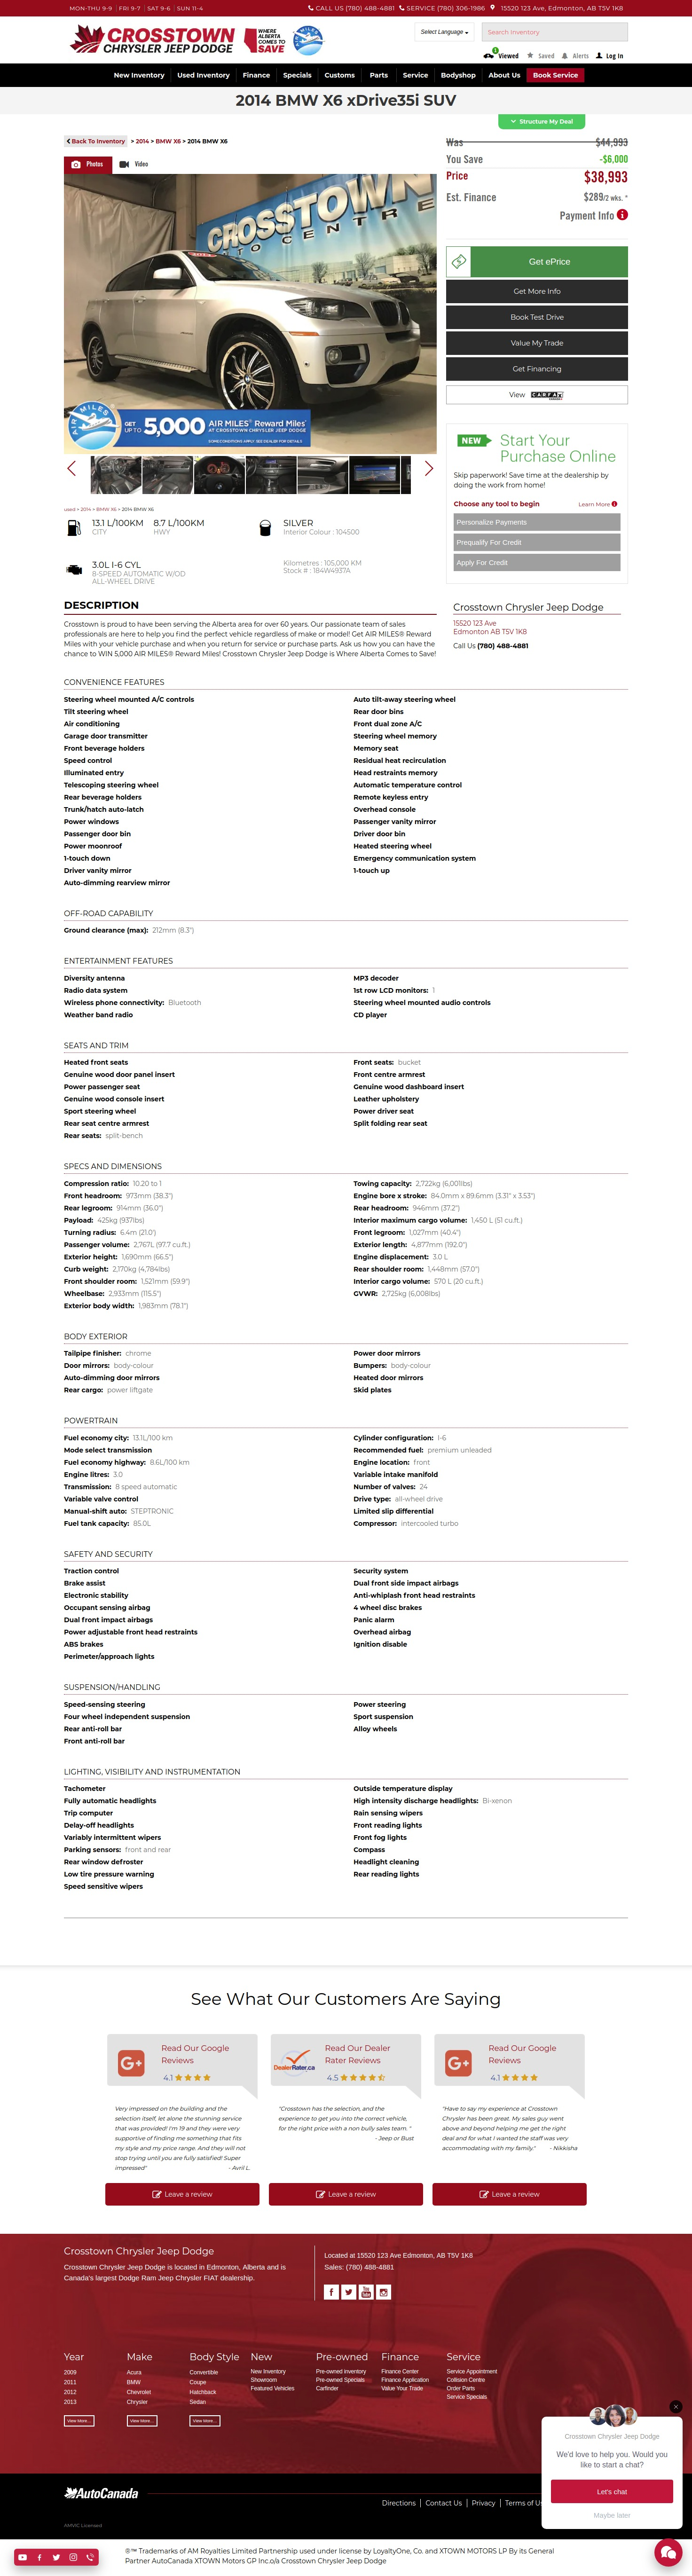car: (422, 460, 434, 478)
